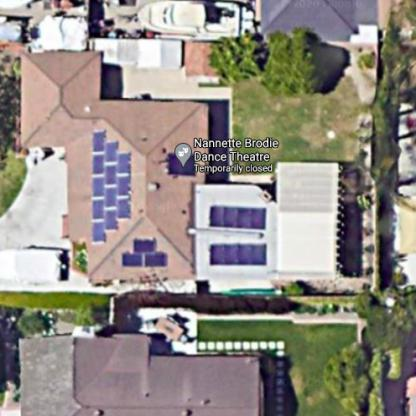solar_panel: (86, 128, 134, 249), (201, 198, 276, 239), (205, 237, 273, 272), (116, 237, 172, 269)
